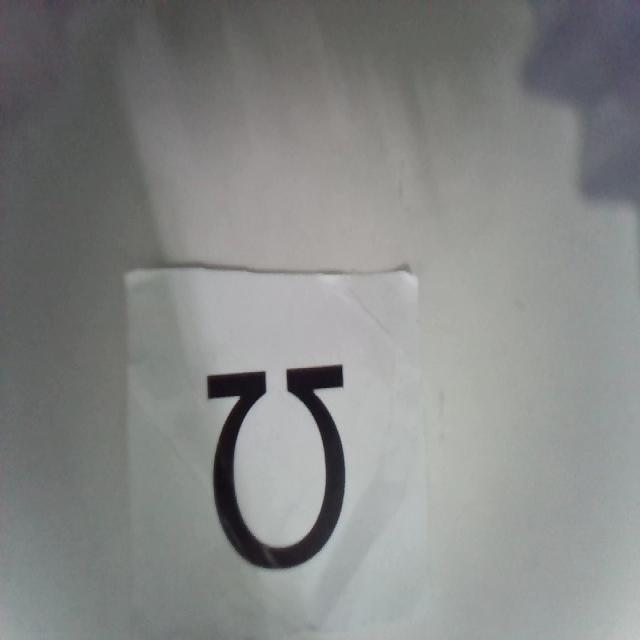OM: (204, 360, 351, 568)
